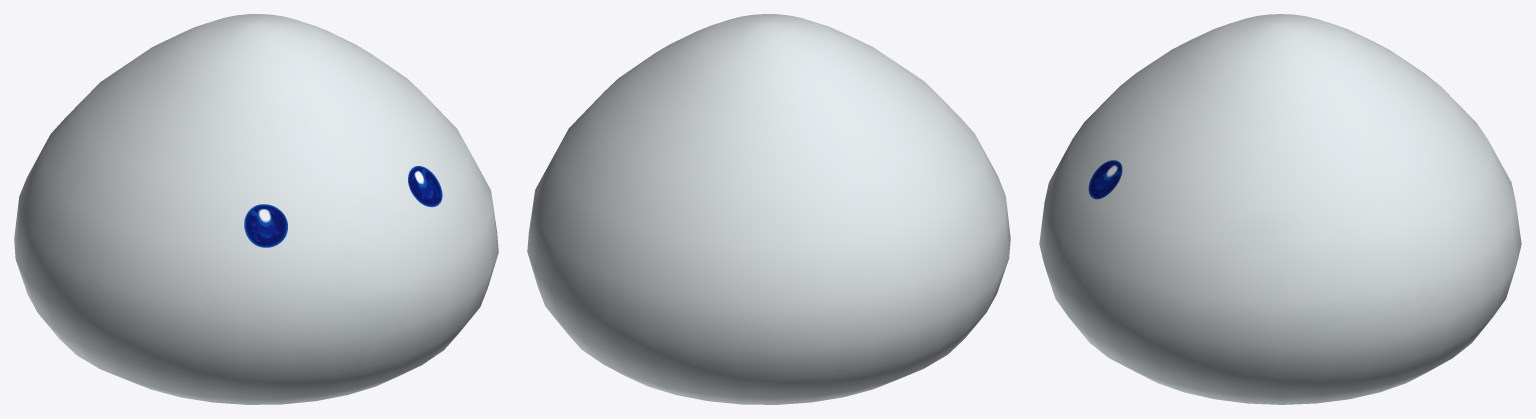
Rendered from slime_white.gltf.
3 views of the same model, side by side, from view 1: azimuth 30°, elevation 25°; view 2: azimuth 150°, elevation 25°; view 3: azimuth 270°, elevation 25° (orthographic).
Parts seen in each view (by area): view 1: Slime_Slime_0; view 2: Slime_Slime_0; view 3: Slime_Slime_0.
Part boxes in pixels (x1,y1,x2,y2): Slime_Slime_0: (14, 14, 498, 404); Slime_Slime_0: (527, 14, 1010, 404); Slime_Slime_0: (1039, 14, 1521, 404).
Bounding box in the file's own units: 1.03 × 0.7421 × 1.03.
Materials: 1 (1 with a texture image).
